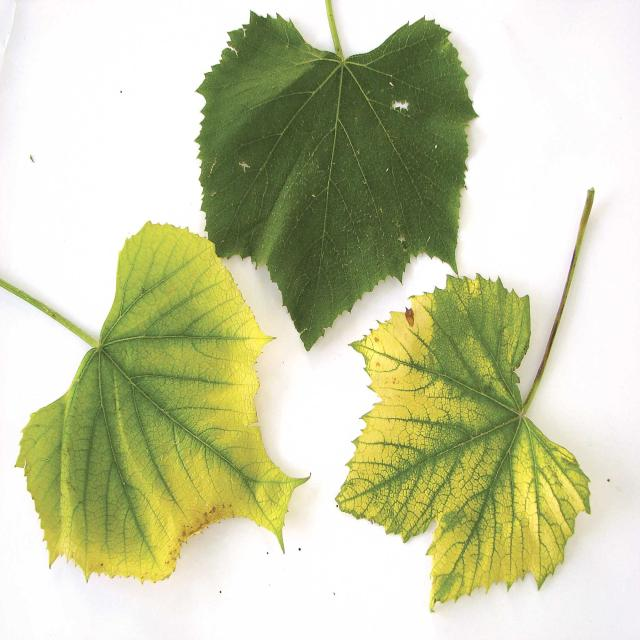Chlorosis: (2, 238, 300, 582), (341, 293, 618, 624)
